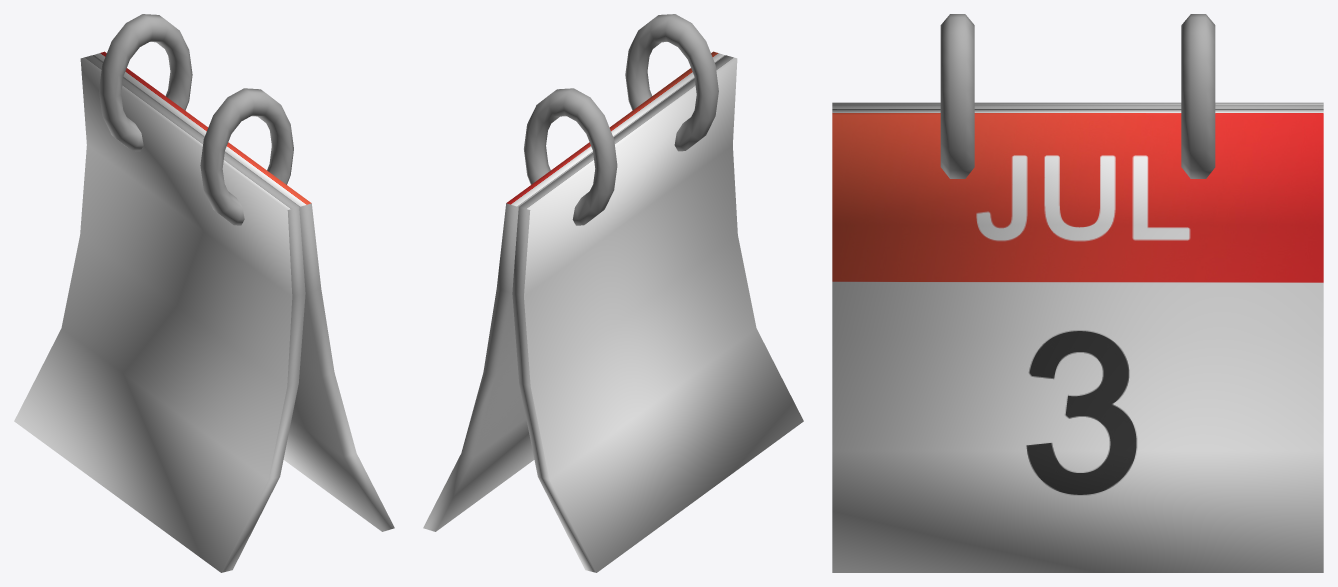
File: paperCalendar.fbx
3 renders of one model, left to right at view 1: azimuth 30°, elevation 25°; view 2: azimuth 150°, elevation 25°; view 3: azimuth 270°, elevation 25°, orthographic. The views are drawn at different scales.
Visible parts, largest first — view 1: Calender_01; view 2: Calender_01; view 3: Calender_01.
Part boxes in pixels (x1,y1,x2,y2): Calender_01: (14, 14, 394, 572); Calender_01: (423, 14, 803, 572); Calender_01: (832, 14, 1323, 572).
Bounding box in the file's own units: 32.3 × 75.39 × 66.71.
1 material, 1 textured.
